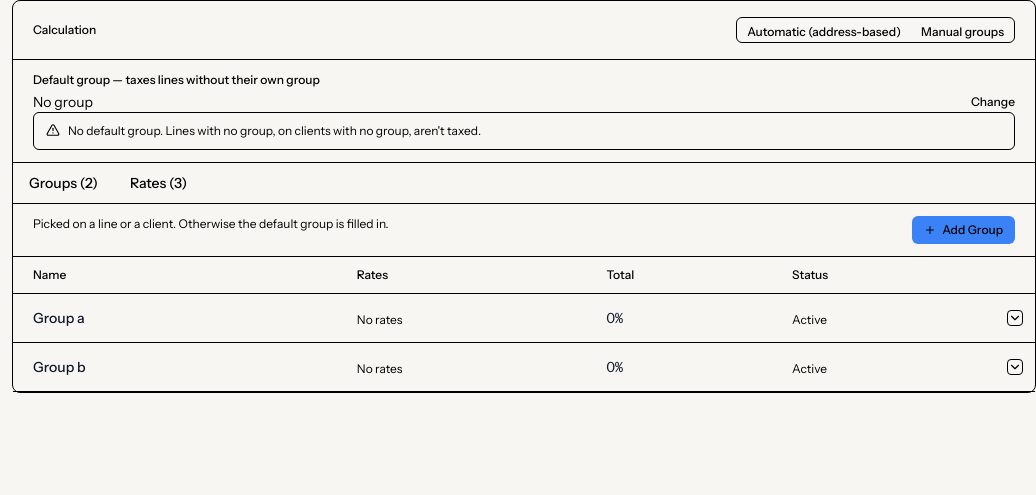
Test case: TaxSettingsSection › opens on Groups and switches to Rates, remembering the choice
Click the tab "Rates (3)". click: (159,183)
box: [114,163,203,203]
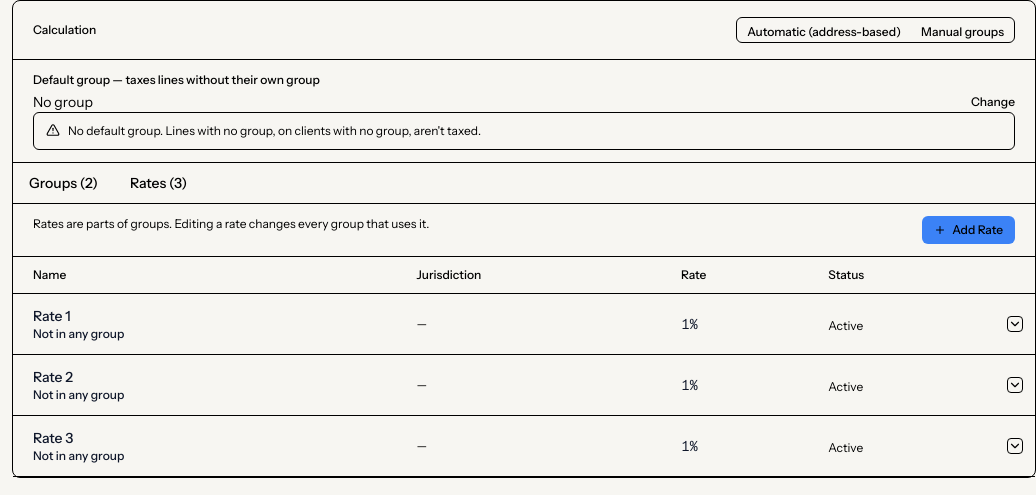
Now the text "Rates are parts of groups. Editing a rate changes every group that uses it." is shown, box [33,216,429,232]
